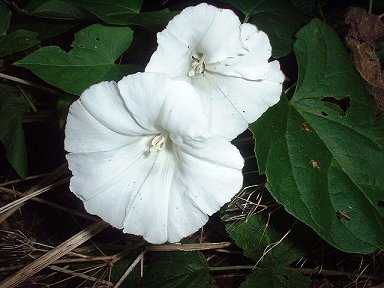haagwinde: (56, 3, 290, 247)
